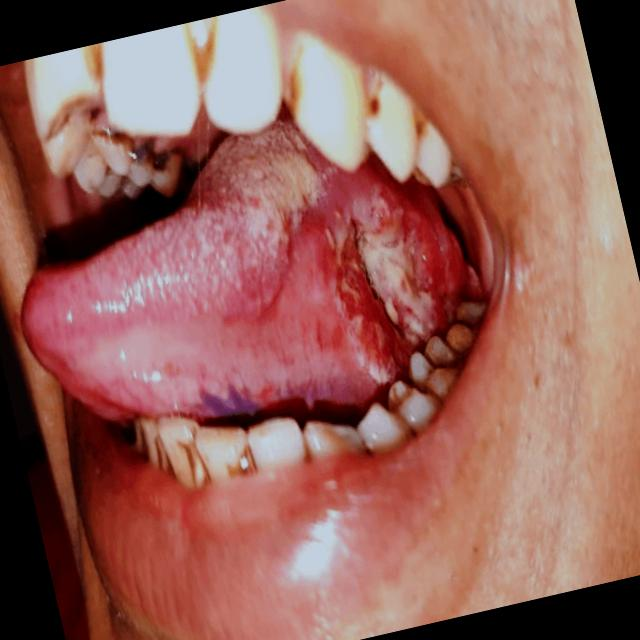Cancer: (292, 177, 479, 416), (166, 348, 286, 448)
